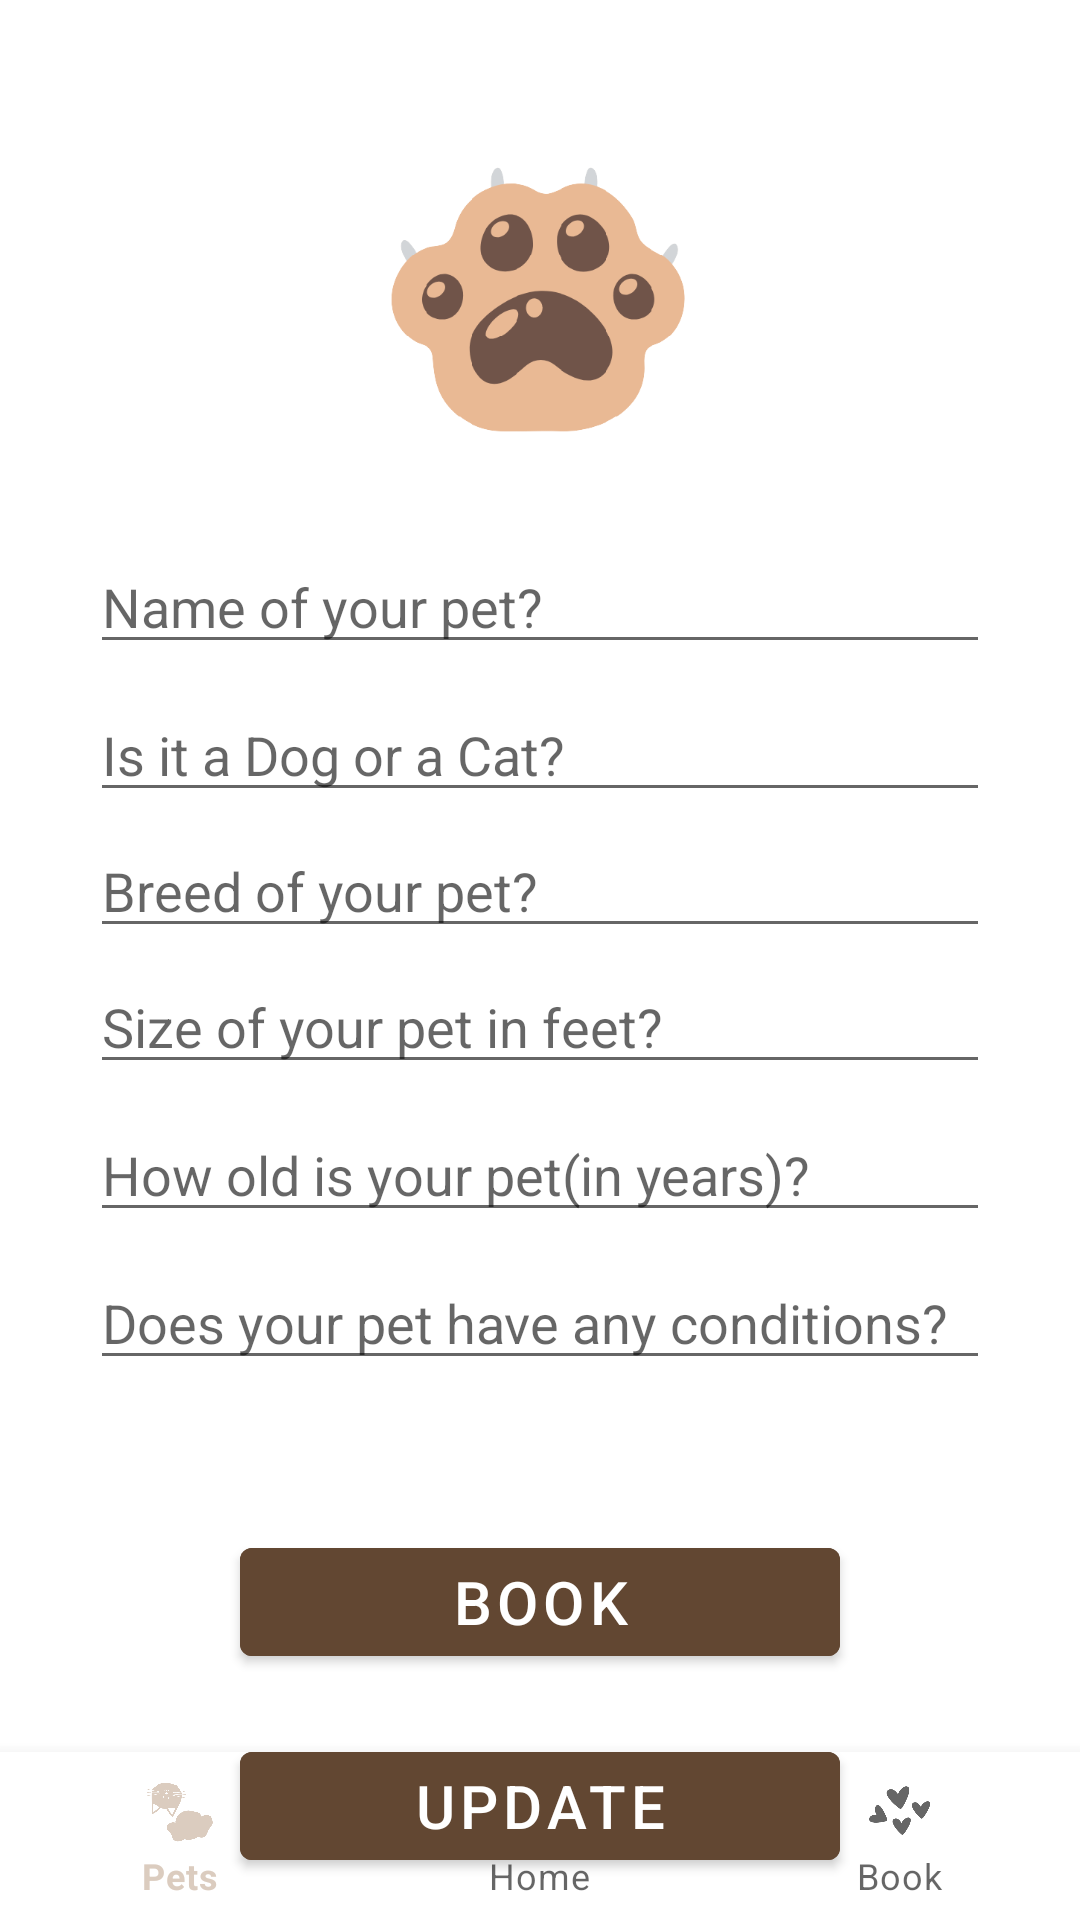

Named icons in this screenshot (1080*1920) and their centers, (x=x, y=y):
paw: (x=538, y=300)
